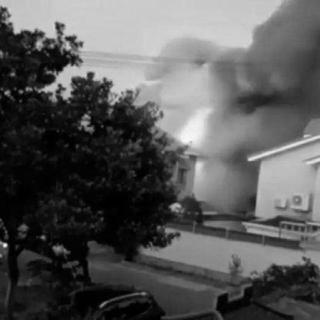Fire: (175, 104, 217, 152)
Smoke: (250, 5, 304, 137)
other: (302, 112, 318, 136)
